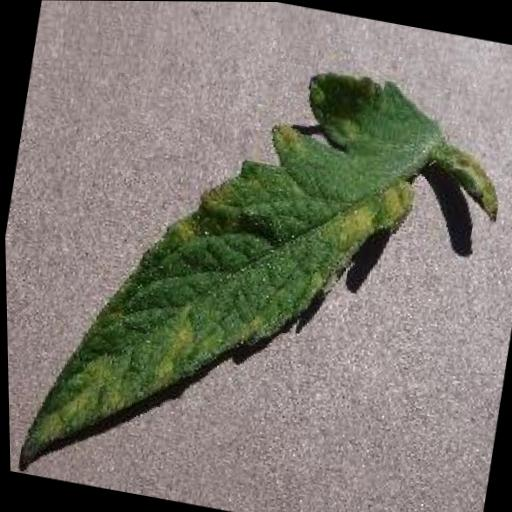Leaf Mold: (6, 27, 458, 512)
